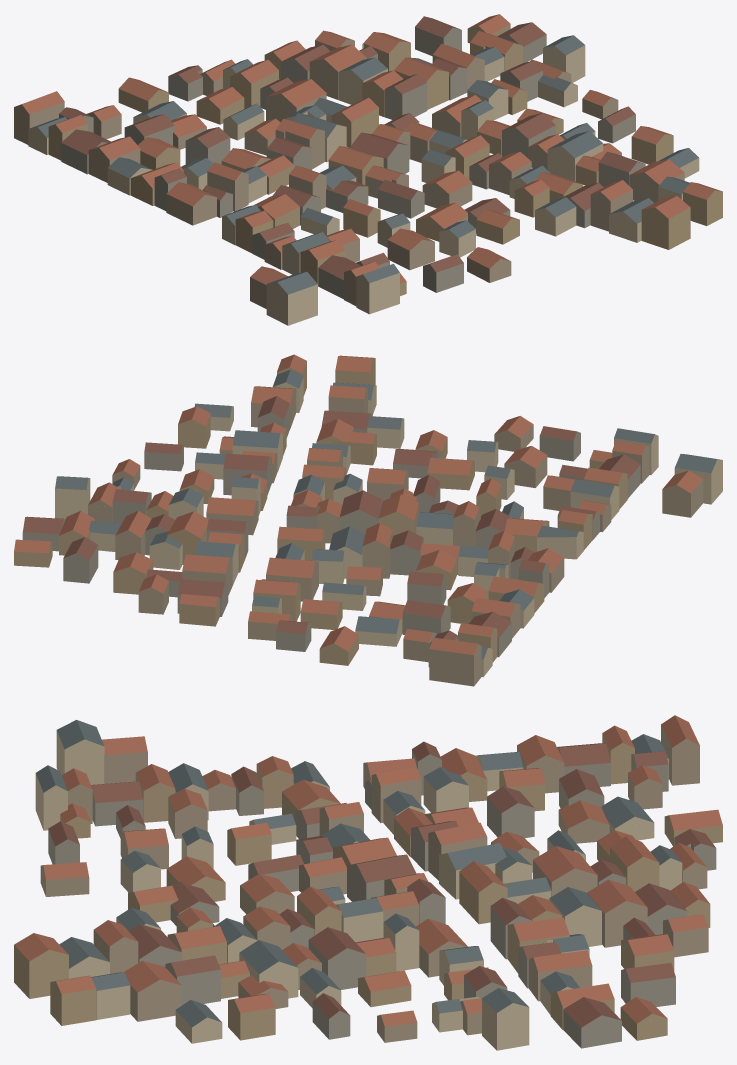
3 views of the same model, one above another, from view 1: azimuth 30°, elevation 25°; view 2: azimuth 150°, elevation 25°; view 3: azimuth 270°, elevation 25° (orthographic). The views are drawn at different scales.
Parts seen in each view (by area): view 1: C_0_-2; view 2: C_0_-2; view 3: C_0_-2.
Part boxes in pixels (x1,y1,x2,y2): C_0_-2: [14, 14, 722, 325]; C_0_-2: [14, 354, 722, 686]; C_0_-2: [14, 715, 722, 1050].
Bounding box in the file's own units: 188 × 14.02 × 194.
